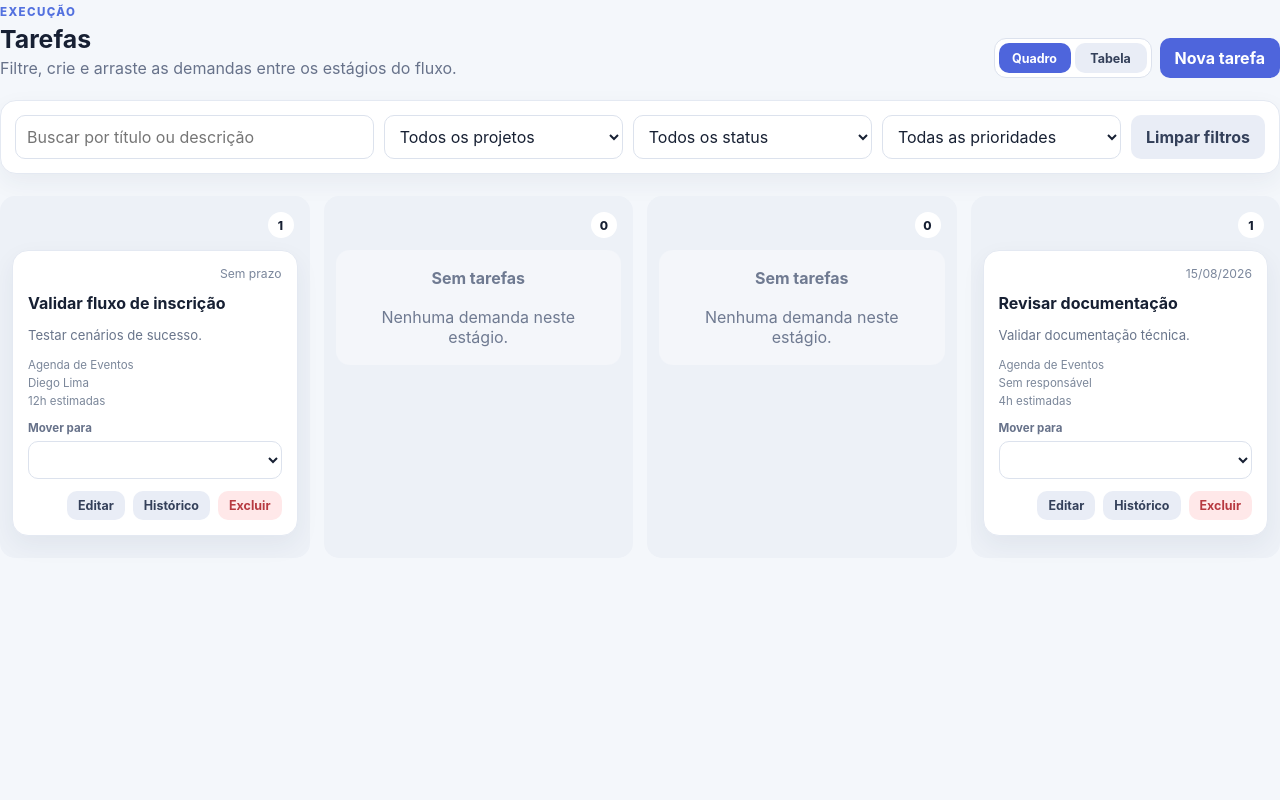
TasksPage › opens and cancels the task deletion dialog
Click the button "Excluir" below "12": (250, 506) [218,491,282,520]
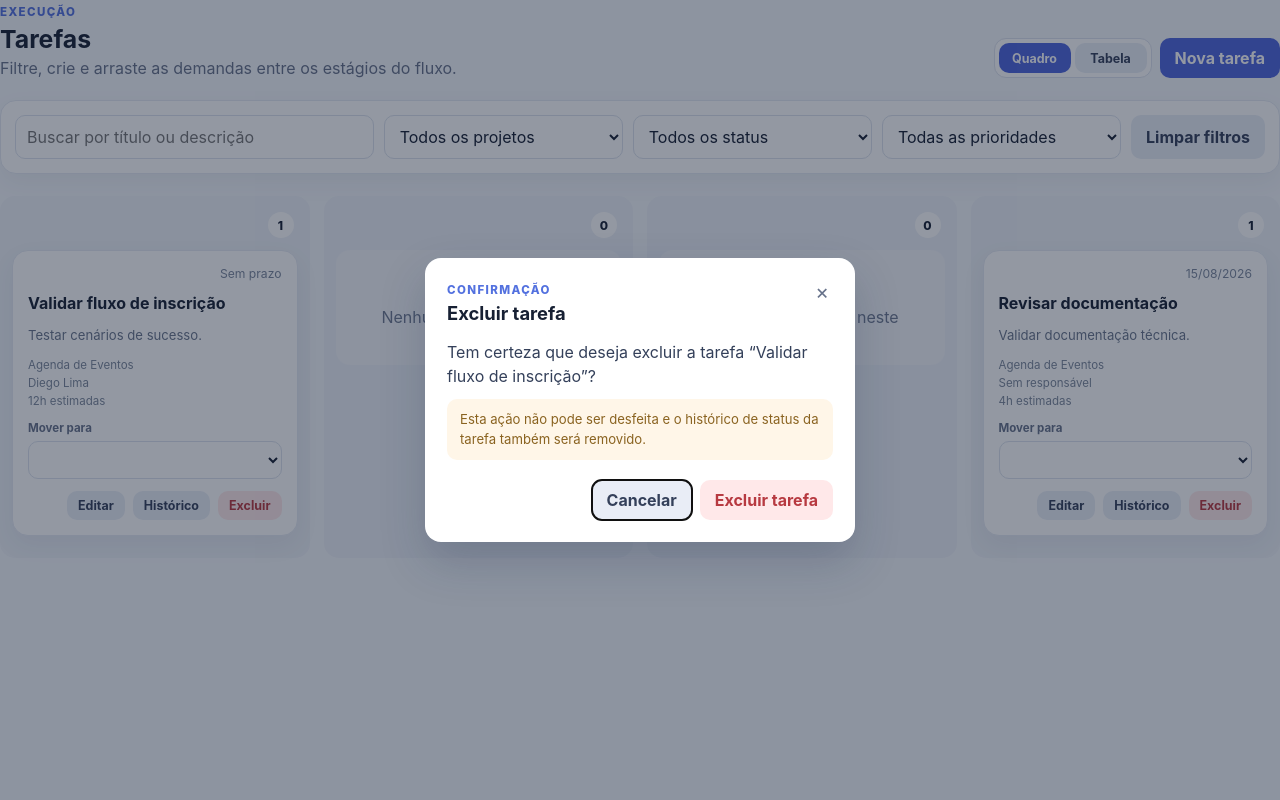
Result: the button "Cancelar" is shown
Click the button "Cancelar": (642, 500) [592,480,692,520]
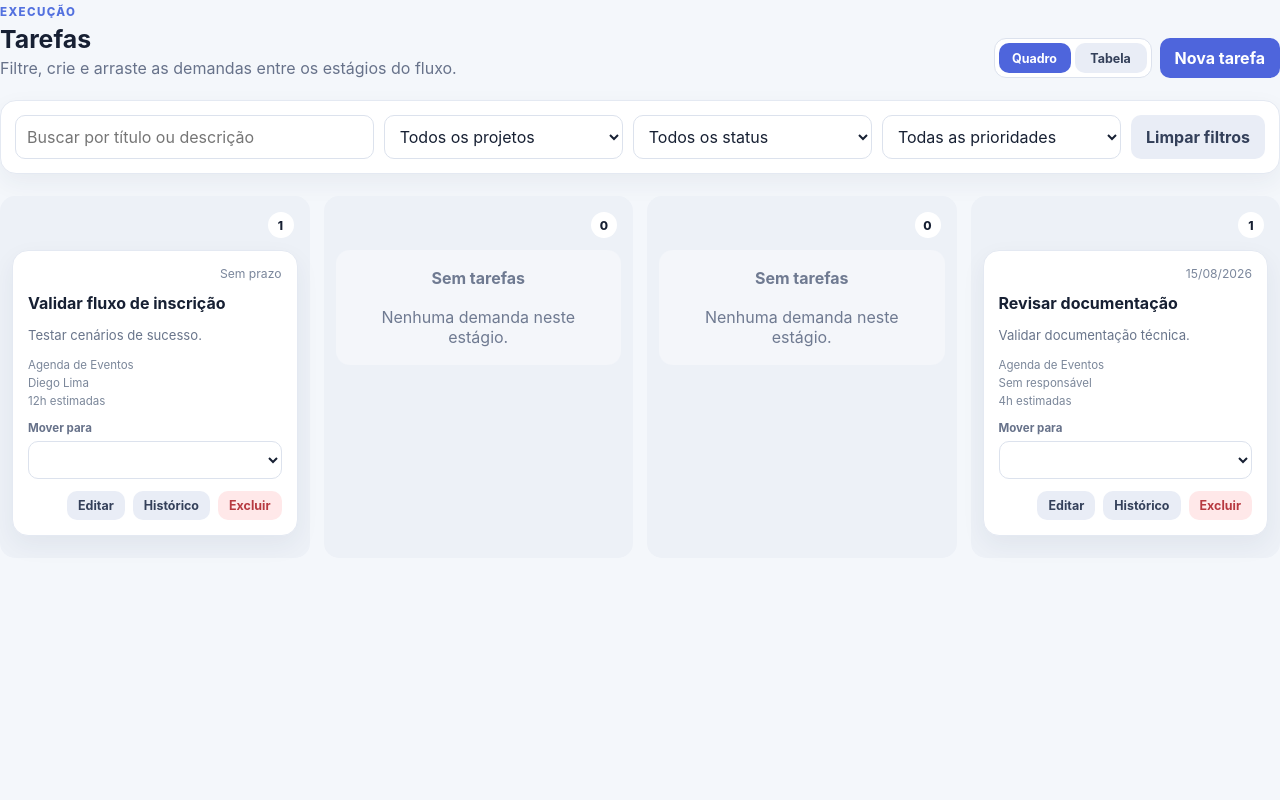
Result: the button "Cancelar" is gone
